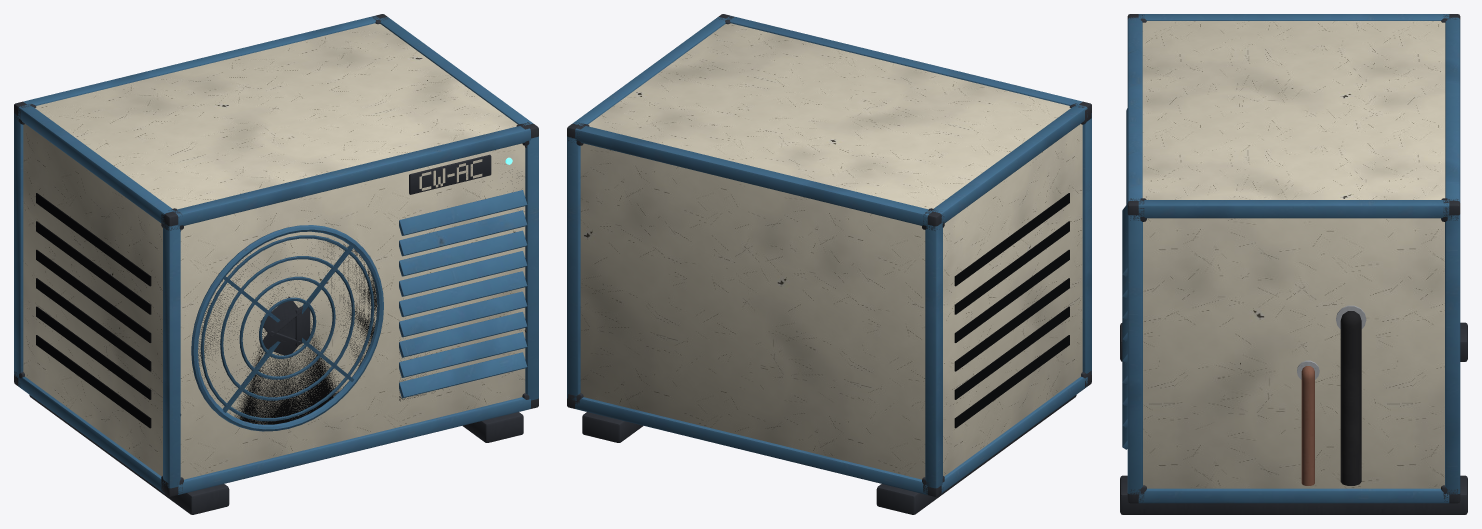
File: air_conditioner.glb
3 renders of one model, left to right at view 1: azimuth 30°, elevation 25°; view 2: azimuth 150°, elevation 25°; view 3: azimuth 270°, elevation 25°, orthographic. The views are drawn at different scales.
Visible parts, largest first — view 1: AirConditionerBody; view 2: AirConditionerBody; view 3: AirConditionerBody.
Part boxes in pixels (x1=…): AirConditionerBody: x1=14, y1=14, x2=538, y2=514; AirConditionerBody: x1=567, y1=14, x2=1091, y2=514; AirConditionerBody: x1=1120, y1=14, x2=1467, y2=514.
Bounding box in the file's own units: 0.9733 × 0.742 × 0.73.
10 materials, 8 textured.
